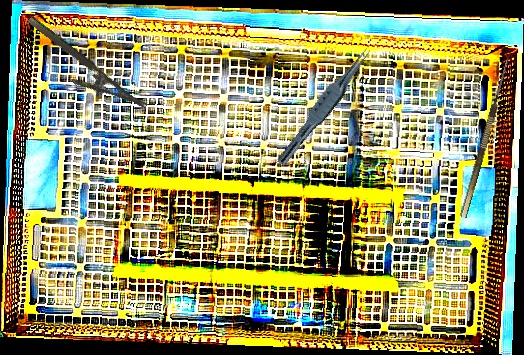Hook Surgical: (451, 51, 513, 218)
Needle Holder: (15, 14, 148, 128)
Tissue Forceps: (275, 42, 375, 172)
